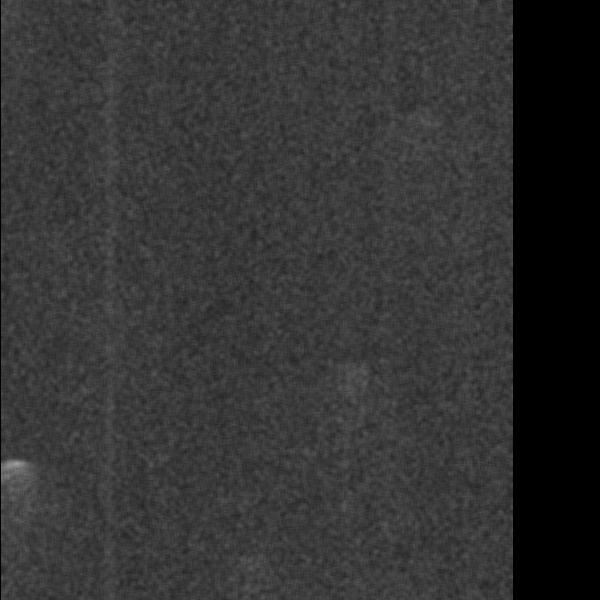spark: (1, 458, 29, 505)
